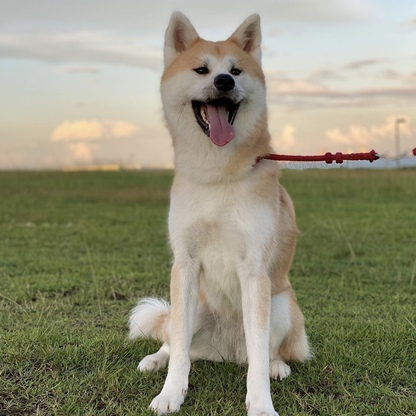akita: (124, 3, 322, 416)
